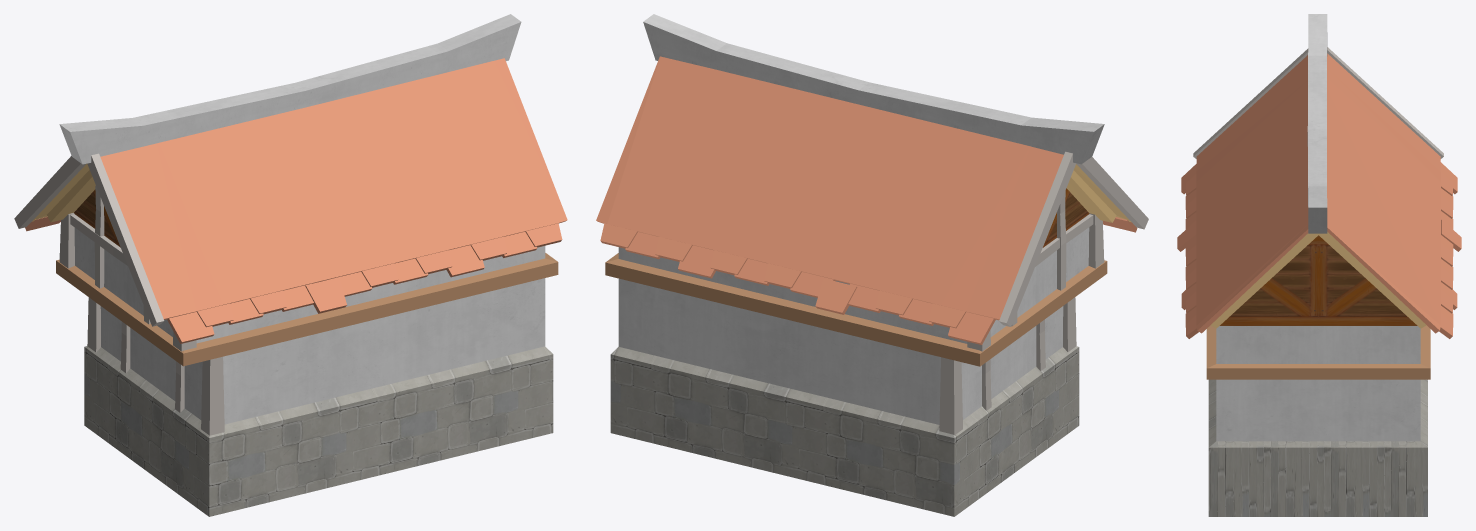
The model's file is Building_A_04.fbx.
The picture shows the model from 3 angles, left to right: view 1: azimuth 30°, elevation 25°; view 2: azimuth 150°, elevation 25°; view 3: azimuth 270°, elevation 25°; orthographic projection. The views are drawn at different scales.
Visible parts, largest first — view 1: Building_A_04; view 2: Building_A_04; view 3: Building_A_04.
Part boxes in pixels (x1,y1,x2,y2): Building_A_04: [14, 14, 567, 516]; Building_A_04: [596, 14, 1148, 516]; Building_A_04: [1177, 14, 1461, 516].
Size of the model in its own units: 1628 by 1253 by 1009.
